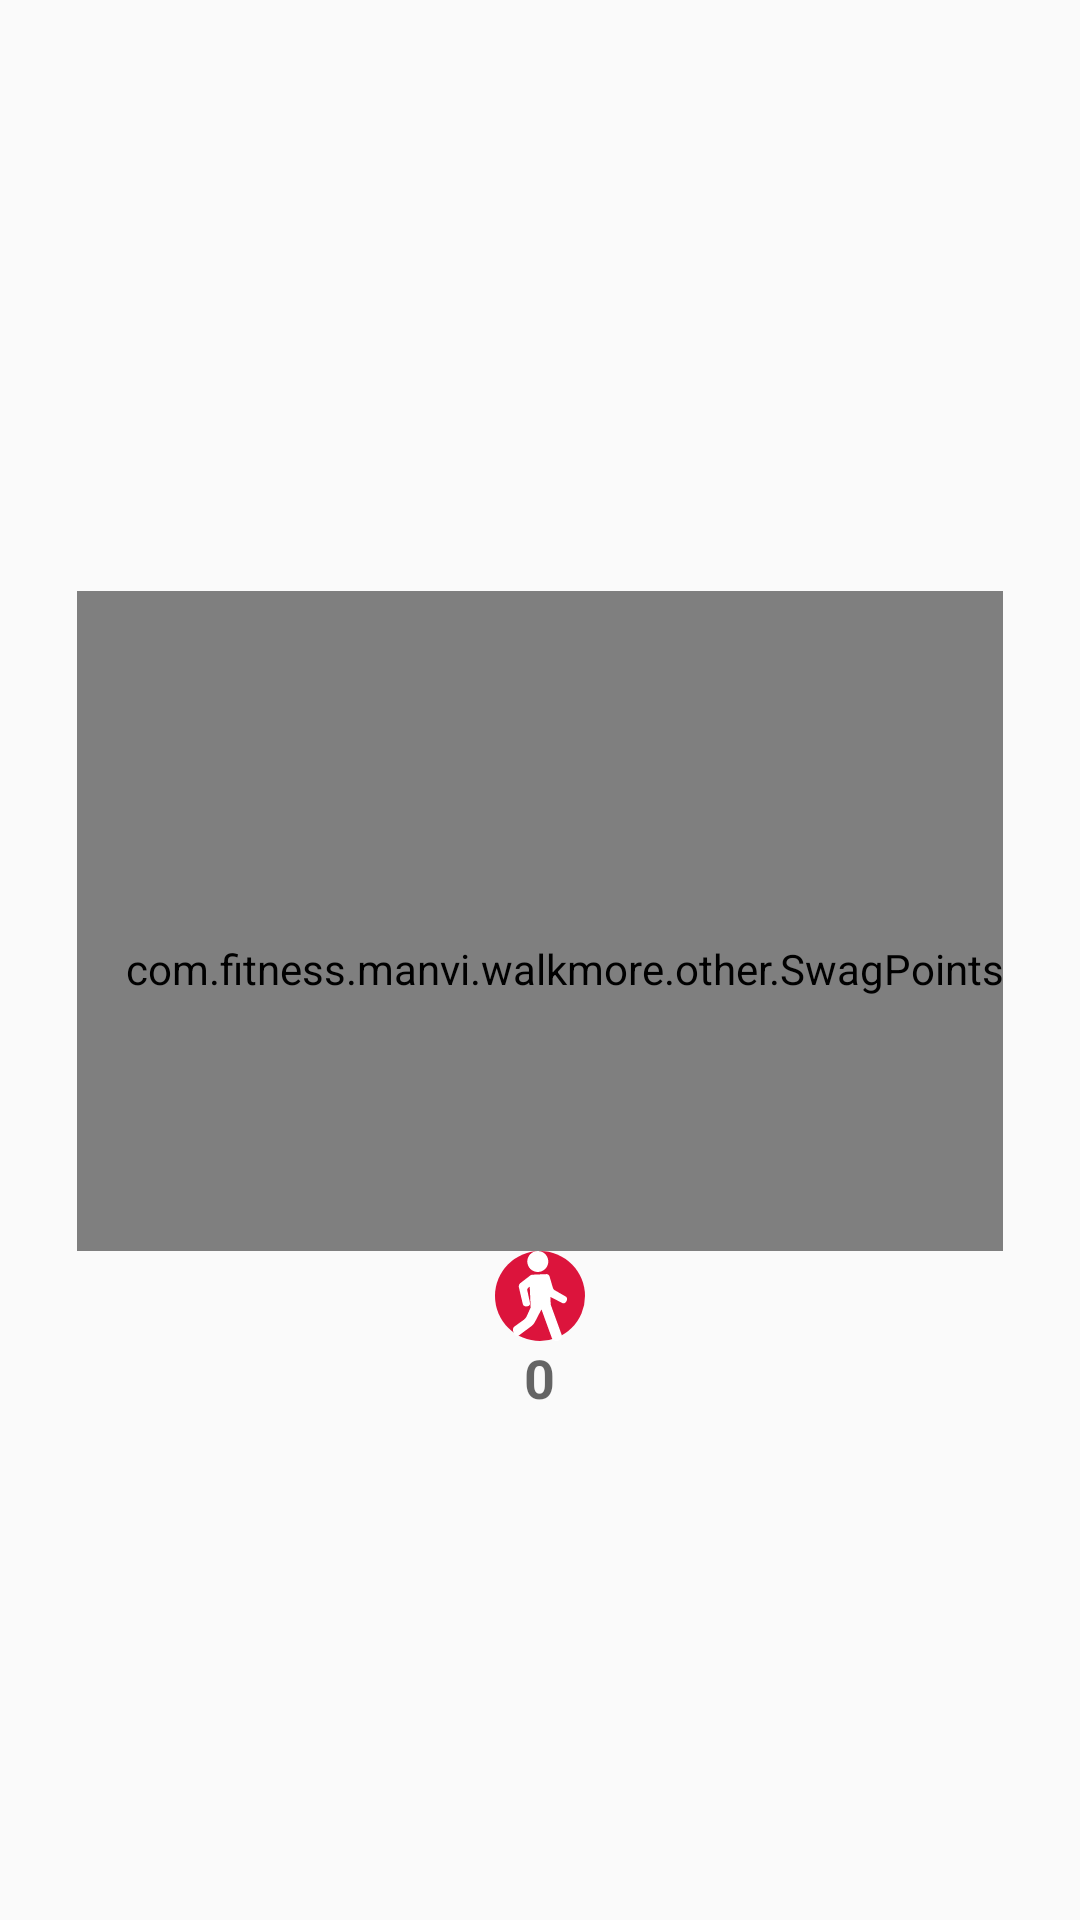

Screen size 1080 x 1920. Icon name, then its box in pixels as (x1, y1, x2, y2):
Total Steps: (495, 1251, 585, 1341)
